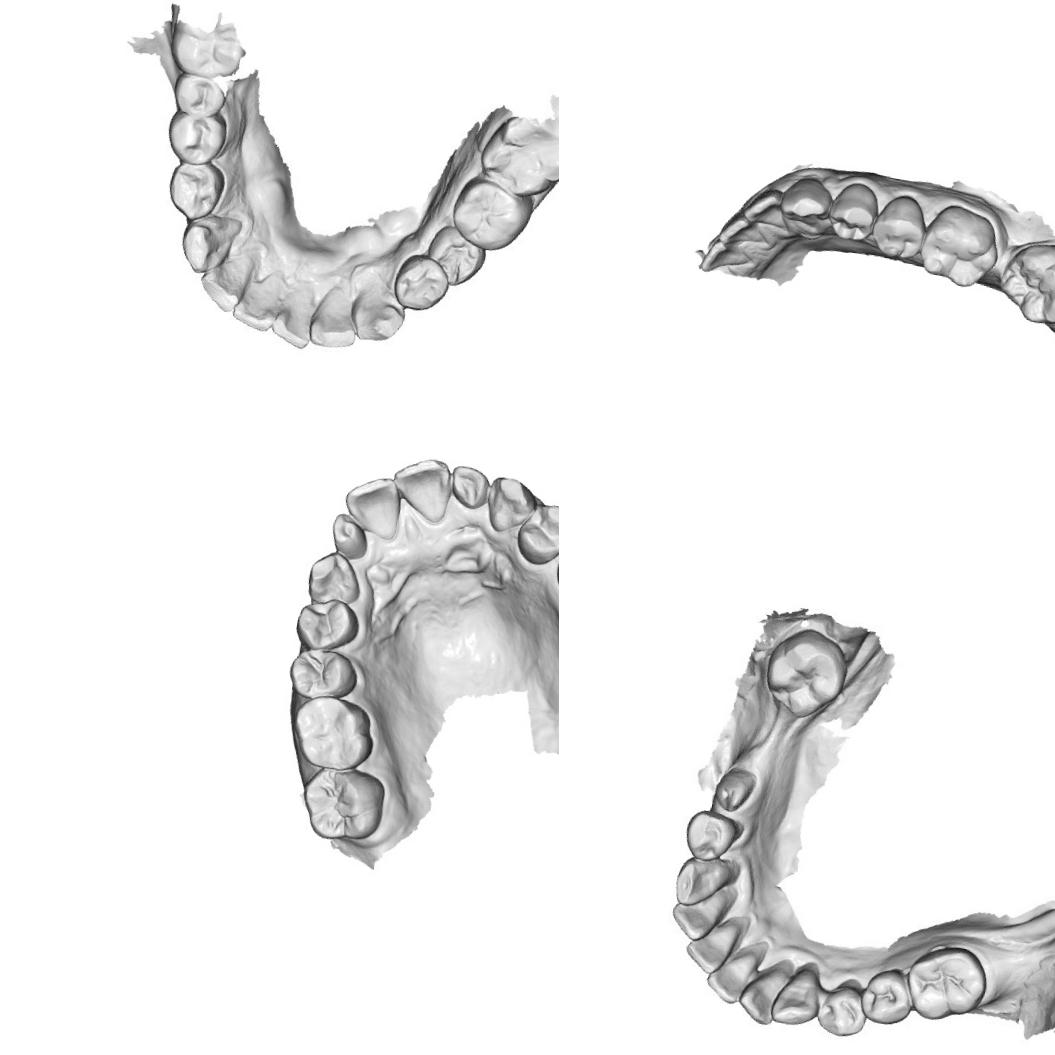canine: (174, 210, 242, 281), (346, 278, 410, 348), (774, 173, 836, 244), (766, 959, 822, 1037), (302, 546, 366, 610), (482, 472, 540, 538), (672, 852, 738, 906)
incisor: (386, 451, 456, 525), (338, 470, 405, 544), (666, 882, 733, 948), (681, 917, 746, 981), (702, 940, 758, 1010), (734, 964, 791, 1031), (198, 251, 258, 314), (308, 286, 367, 348), (276, 280, 322, 348), (235, 272, 285, 326), (446, 462, 496, 513), (738, 184, 786, 234), (698, 238, 754, 279), (327, 512, 372, 561), (716, 212, 762, 250)
molar: (758, 622, 852, 724), (285, 689, 381, 776), (914, 200, 1004, 292), (902, 940, 993, 1030), (295, 762, 388, 848), (475, 108, 559, 198), (448, 175, 532, 253), (992, 235, 1055, 330)
premolar: (865, 190, 932, 262), (284, 644, 363, 705), (290, 592, 364, 657), (425, 222, 490, 290), (678, 804, 751, 864), (824, 178, 883, 245), (859, 963, 918, 1030), (817, 977, 875, 1042), (390, 255, 450, 315), (167, 109, 228, 168), (168, 159, 228, 218), (512, 497, 559, 570), (175, 66, 234, 120)
